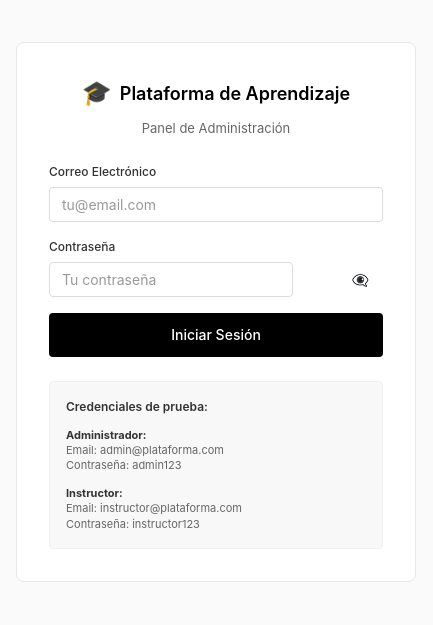
Test: LoginPage › shows validation error for empty fields
Step 1. Click the button "Iniciar Sesión" → (216, 335), box [49,313,383,357]
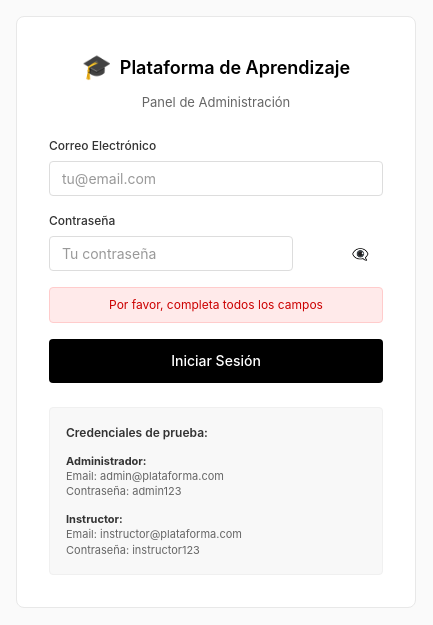
Result: the text "Por favor, completa todos los campos" is shown at [49,287,383,323]
